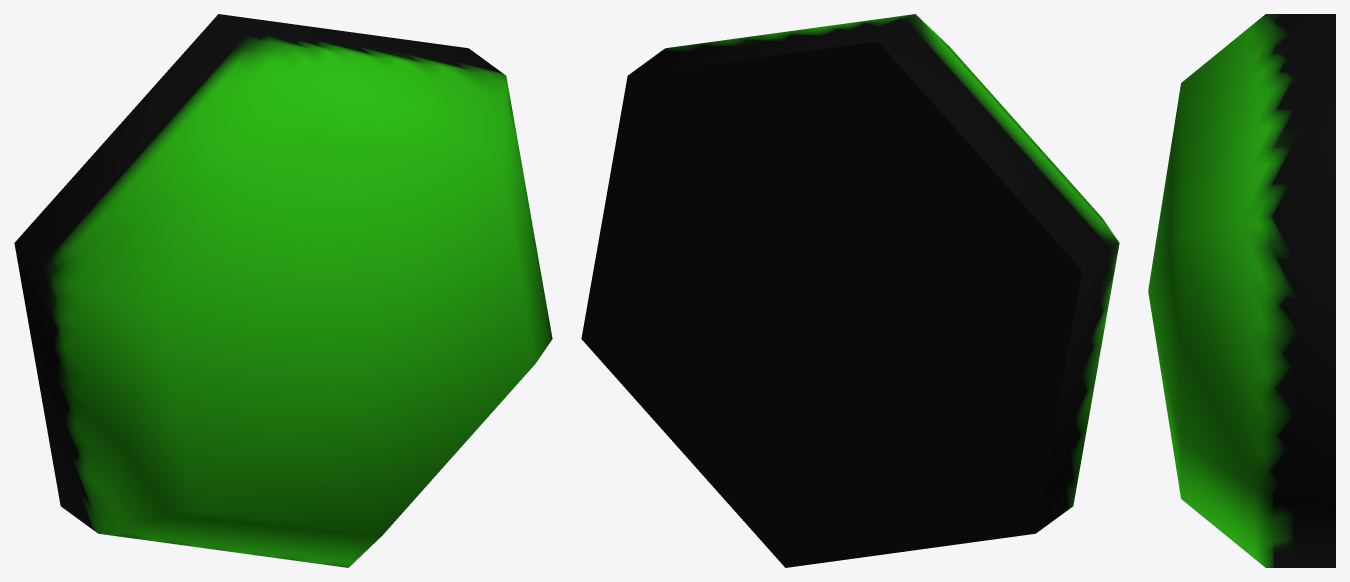
File: MagnetA.FBX
The picture shows the model from 3 angles, left to right: view 1: azimuth 30°, elevation 25°; view 2: azimuth 150°, elevation 25°; view 3: azimuth 270°, elevation 25°; orthographic projection. The views are drawn at different scales.
Parts seen in each view (by area): view 1: MagnetA; view 2: MagnetA; view 3: MagnetA.
Boxes of the visible parts, <box> form: MagnetA: <box>14,14,552,567</box>; MagnetA: <box>581,14,1119,567</box>; MagnetA: <box>1148,14,1335,567</box>.
Size of the model in its own units: 0.8939 by 0.9369 by 0.3113.
